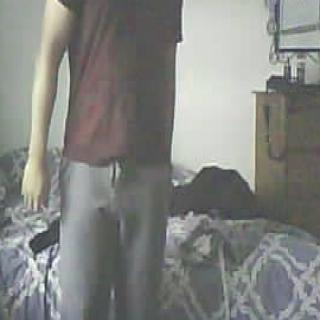Gray Sweatpants: (55, 160, 173, 320)
Maroon T-Shirt: (50, 0, 185, 152)
